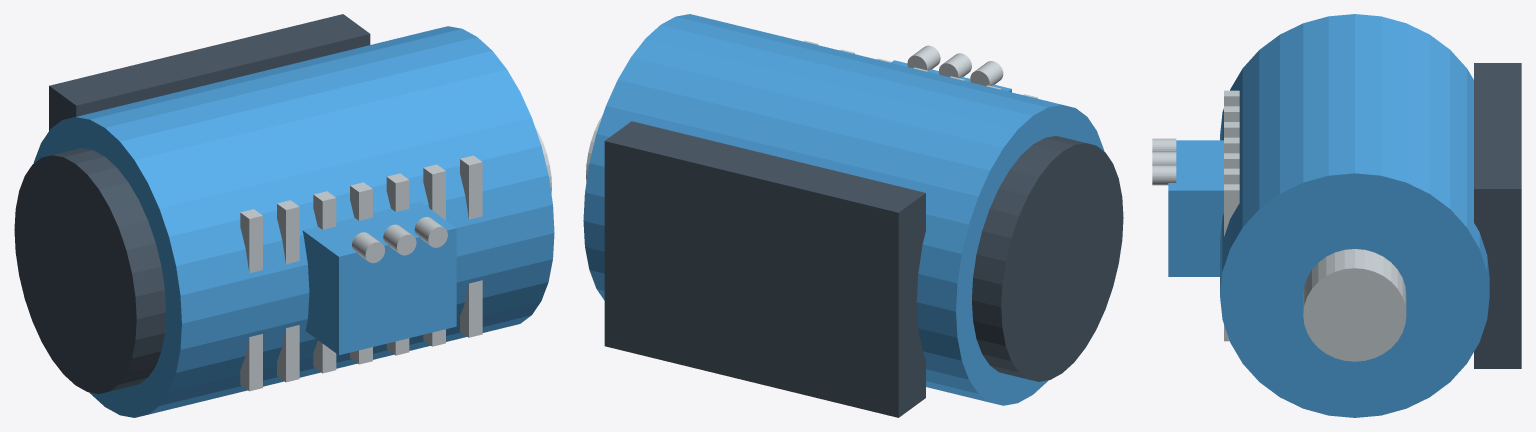
The model's file is motor_3ph.glb.
3 renders of one model, left to right at view 1: azimuth 30°, elevation 25°; view 2: azimuth 150°, elevation 25°; view 3: azimuth 270°, elevation 25°, orthographic. The views are drawn at different scales.
Visible parts, largest first — view 1: motor_3ph_0, motor_3ph_2, motor_3ph_11, motor_3ph_10, motor_3ph_4, motor_3ph_9, motor_3ph_3, motor_3ph_5, motor_3ph_8, motor_3ph_7, motor_3ph_6, motor_3ph_13 (+2 smaller); view 2: motor_3ph_10, motor_3ph_0, motor_3ph_2, motor_3ph_12, motor_3ph_13, motor_3ph_14; view 3: motor_3ph_0, motor_3ph_10, motor_3ph_1, motor_3ph_11, motor_3ph_9, motor_3ph_14, motor_3ph_13, motor_3ph_12.
Part boxes in pixels (bbox=[...]): motor_3ph_0: bbox=[33, 26, 554, 417]; motor_3ph_2: bbox=[14, 148, 165, 393]; motor_3ph_11: bbox=[302, 201, 456, 355]; motor_3ph_10: bbox=[49, 14, 370, 130]; motor_3ph_4: bbox=[277, 200, 299, 382]; motor_3ph_9: bbox=[460, 155, 482, 337]; motor_3ph_3: bbox=[240, 209, 262, 391]; motor_3ph_5: bbox=[313, 191, 336, 373]; motor_3ph_8: bbox=[423, 164, 445, 346]; motor_3ph_7: bbox=[386, 173, 409, 355]; motor_3ph_6: bbox=[350, 182, 372, 364]; motor_3ph_13: bbox=[383, 224, 416, 255]; motor_3ph_10: bbox=[604, 121, 925, 417]; motor_3ph_0: bbox=[583, 14, 1104, 405]; motor_3ph_2: bbox=[972, 136, 1123, 381]; motor_3ph_12: bbox=[970, 61, 1003, 85]; motor_3ph_13: bbox=[938, 53, 971, 78]; motor_3ph_14: bbox=[907, 45, 940, 70]; motor_3ph_0: bbox=[1220, 14, 1489, 417]; motor_3ph_10: bbox=[1474, 63, 1521, 368]; motor_3ph_1: bbox=[1303, 249, 1406, 361]; motor_3ph_11: bbox=[1168, 140, 1223, 276]; motor_3ph_9: bbox=[1224, 184, 1239, 341]; motor_3ph_14: bbox=[1152, 165, 1176, 185]; motor_3ph_13: bbox=[1152, 152, 1176, 165]; motor_3ph_12: bbox=[1152, 138, 1176, 151].
Bounding box in the file's own units: 1.14 × 0.68 × 0.93.
